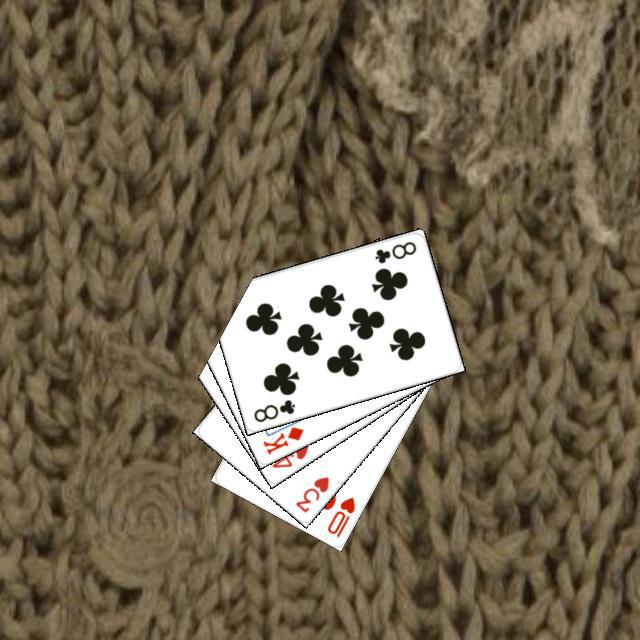10h: (322, 492, 357, 539)
3h: (290, 472, 331, 514)
4h: (267, 439, 310, 470)
8c: (369, 236, 418, 265), (249, 395, 297, 424)
Kd: (258, 422, 305, 456)
